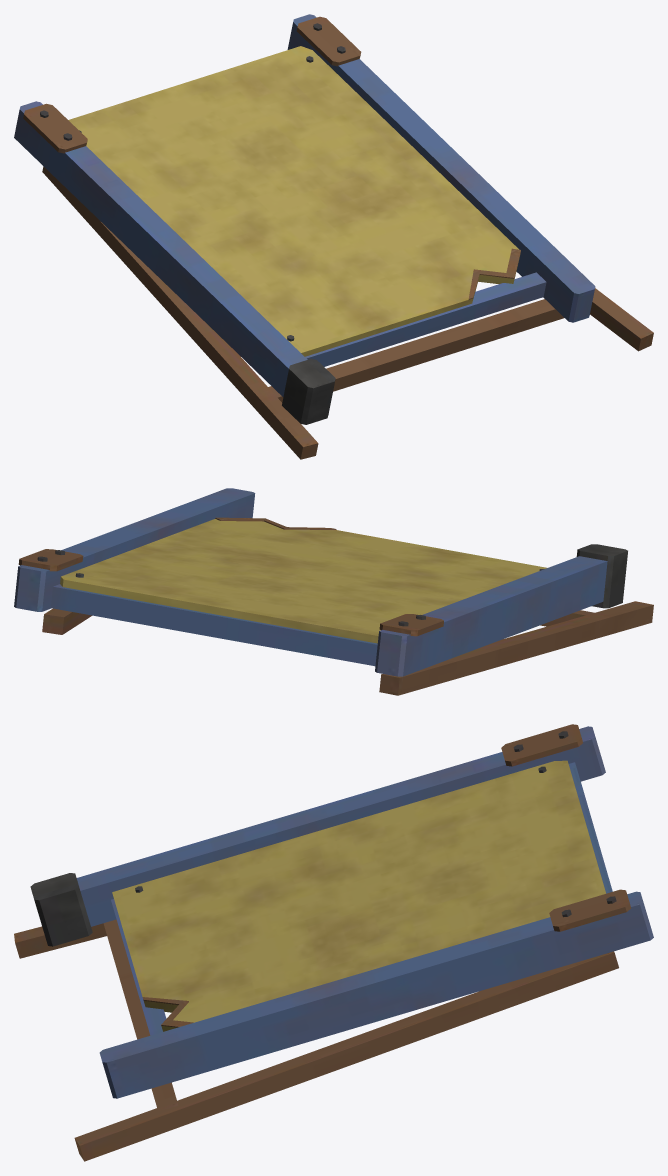
The model's file is BR14_fallen_signboard_v3.glb.
The picture shows the model from 3 angles, top to bottom: view 1: azimuth 30°, elevation 25°; view 2: azimuth 150°, elevation 25°; view 3: azimuth 270°, elevation 25°; orthographic projection. The views are drawn at different scales.
Visible parts, largest first — view 1: Folded rear frame; view 2: Folded rear frame; view 3: Folded rear frame.
Boxes of the visible parts, <box> form: Folded rear frame: <box>14,14,653,459</box>; Folded rear frame: <box>14,488,653,695</box>; Folded rear frame: <box>14,724,653,1161</box>.
Size of the model in its own units: 1.73 by 0.7125 by 2.
5 materials, 5 textured.
